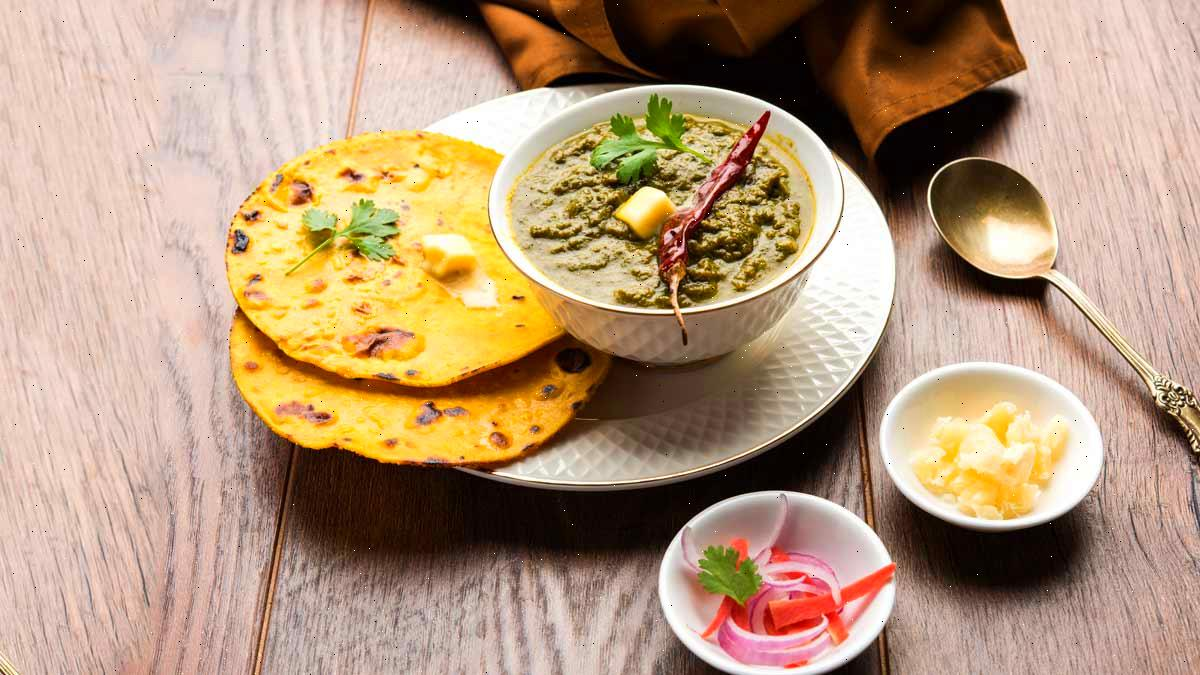saag: (505, 110, 816, 302)
